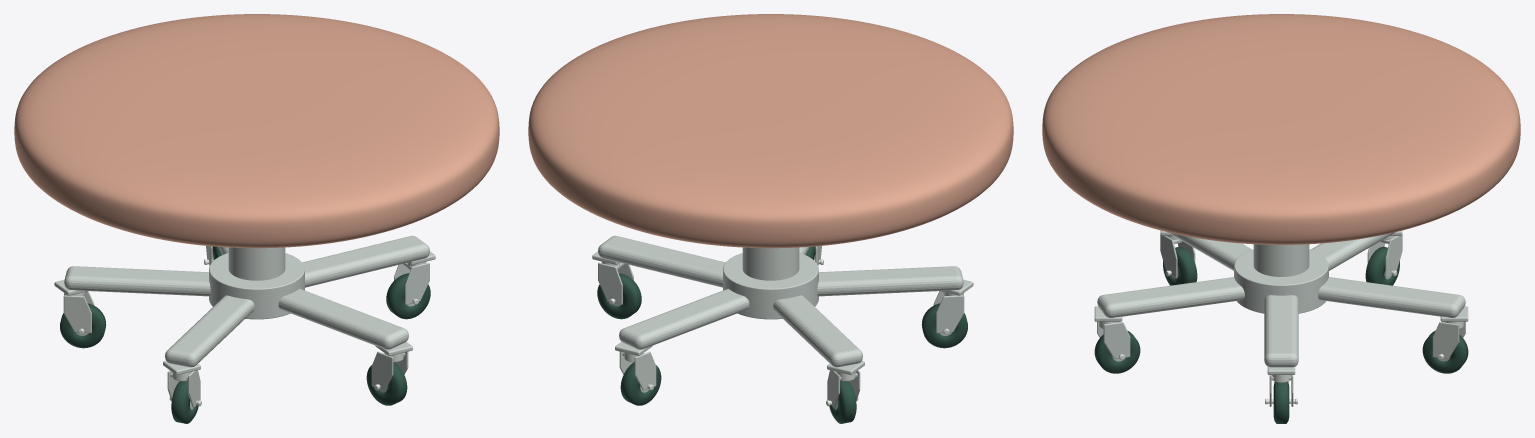
File: stool.glb
3 renders of one model, left to right at view 1: azimuth 30°, elevation 25°; view 2: azimuth 150°, elevation 25°; view 3: azimuth 270°, elevation 25°, orthographic.
Visible parts, largest first — view 1: stool | Visitor and stool upholstery | warm peach, stool | Metal | brushed stainless steel, stool | Rubber | deep forest green, stool | Metal | polished axle steel; view 2: stool | Visitor and stool upholstery | warm peach, stool | Metal | brushed stainless steel, stool | Rubber | deep forest green, stool | Metal | polished axle steel; view 3: stool | Visitor and stool upholstery | warm peach, stool | Metal | brushed stainless steel, stool | Rubber | deep forest green, stool | Metal | polished axle steel.
Part boxes in pixels (x1,y1,x2,y2): stool | Visitor and stool upholstery | warm peach: [14, 14, 499, 248]; stool | Metal | brushed stainless steel: [54, 235, 435, 409]; stool | Rubber | deep forest green: [60, 246, 430, 423]; stool | Metal | polished axle steel: [64, 259, 426, 406]; stool | Visitor and stool upholstery | warm peach: [528, 14, 1013, 248]; stool | Metal | brushed stainless steel: [592, 235, 973, 409]; stool | Rubber | deep forest green: [597, 246, 967, 423]; stool | Metal | polished axle steel: [601, 259, 963, 406]; stool | Visitor and stool upholstery | warm peach: [1042, 14, 1520, 244]; stool | Metal | brushed stainless steel: [1094, 230, 1468, 406]; stool | Rubber | deep forest green: [1094, 246, 1468, 423]; stool | Metal | polished axle steel: [1099, 236, 1463, 404].
Size of the model in its own units: 0.96 by 0.55 by 0.96.
